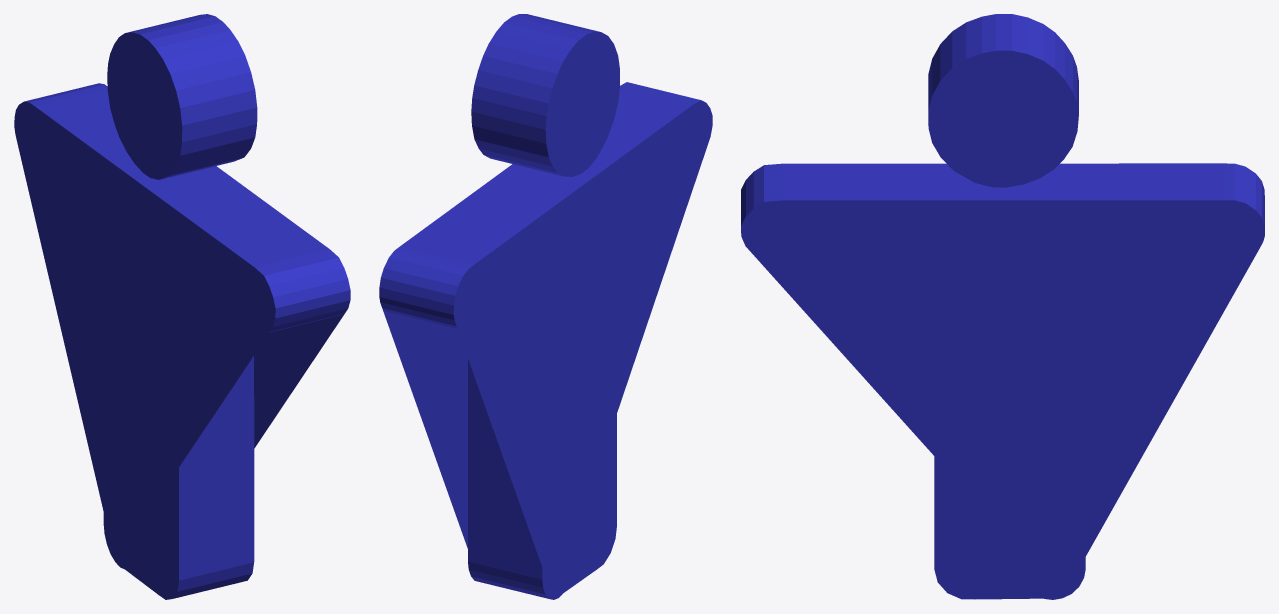
The model's file is HolePortle.fbx.
3 views of the same model, side by side, from view 1: azimuth 30°, elevation 25°; view 2: azimuth 150°, elevation 25°; view 3: azimuth 270°, elevation 25° (orthographic).
Visible parts, largest first — view 1: Plane.001; view 2: Plane.001; view 3: Plane.001.
Boxes of the visible parts, x1=… form: Plane.001: x1=14, y1=14, x2=350, y2=599; Plane.001: x1=379, y1=14, x2=712, y2=599; Plane.001: x1=741, y1=14, x2=1264, y2=599.
Size of the model in its own units: 25.23 by 176 by 152.
